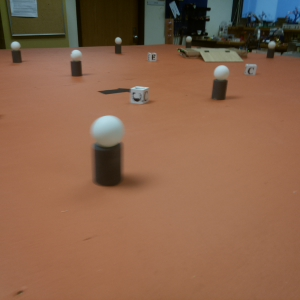blockC: (128, 84, 149, 106), (244, 63, 255, 76)
blockE: (147, 52, 159, 63)
corner: (164, 20, 174, 44)
obstacle: (91, 117, 124, 185), (211, 65, 227, 100), (69, 50, 84, 78), (9, 40, 23, 64), (267, 40, 274, 59), (114, 38, 121, 54), (185, 36, 192, 50)
start: (97, 86, 129, 97)
